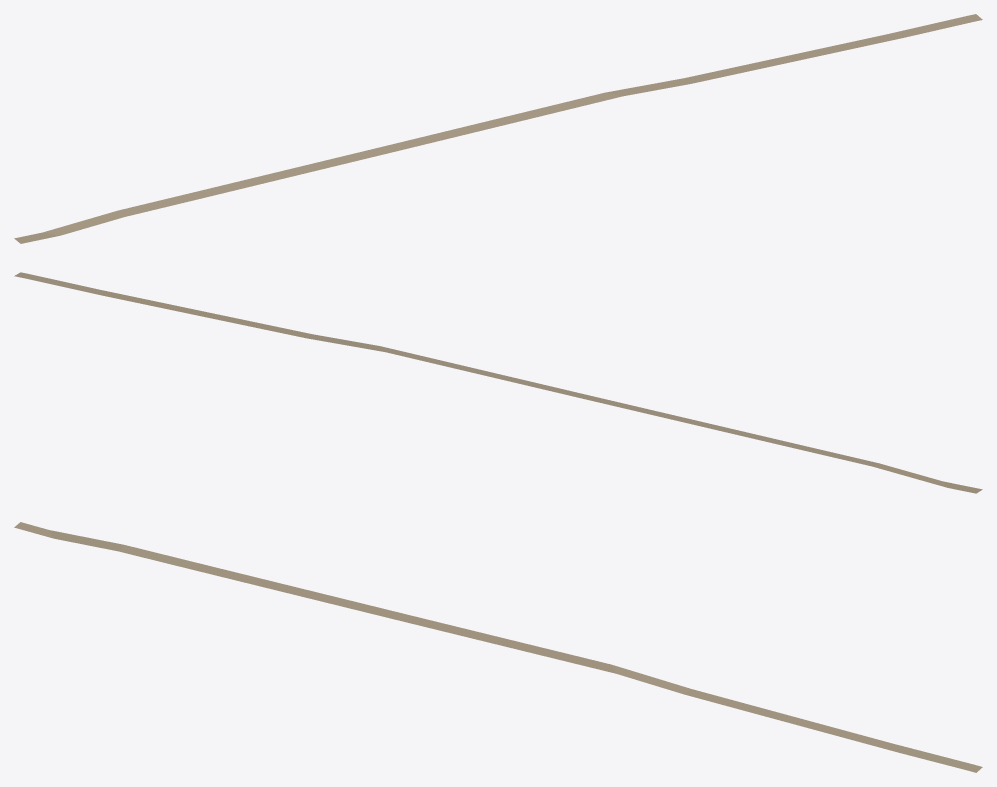
The model's file is farm_-4_2_track.glb.
3 renders of one model, top to bottom at view 1: azimuth 30°, elevation 25°; view 2: azimuth 150°, elevation 25°; view 3: azimuth 330°, elevation 25°, orthographic.
Visible parts, largest first — view 1: geometry_0; view 2: geometry_0; view 3: geometry_0.
Boxes of the visible parts, x1,y1,x2,y2 form: geometry_0: (14,14,982,243); geometry_0: (14,272,982,493); geometry_0: (14,522,982,772).
Size of the model in its own units: 272 by 4.58 by 5.06.
